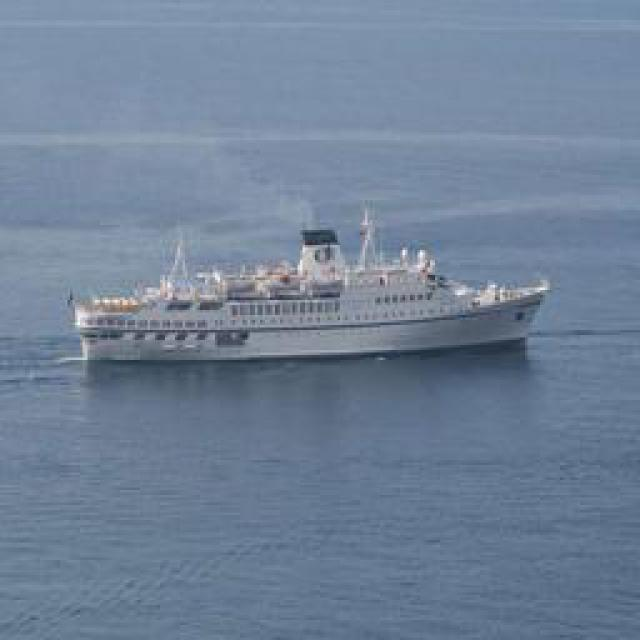Ship: (71, 208, 554, 366)
